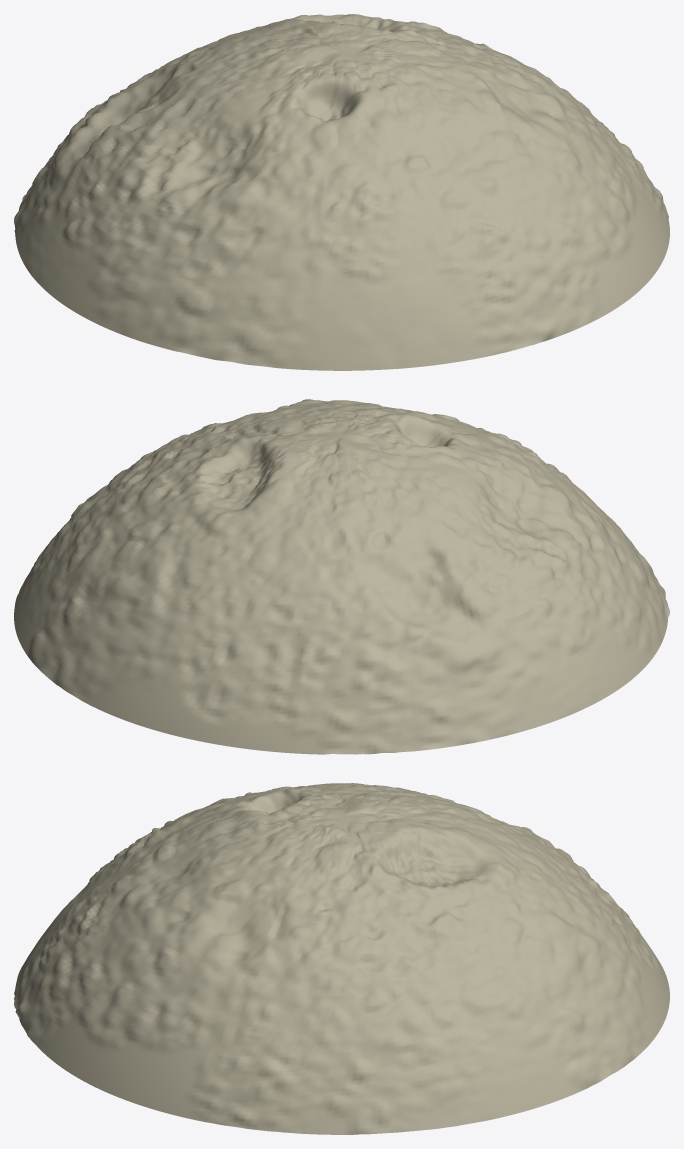
File: FBX_GROUND.fbx
3 renders of one model, top to bottom at view 1: azimuth 30°, elevation 25°; view 2: azimuth 150°, elevation 25°; view 3: azimuth 270°, elevation 25°, orthographic.
Parts seen in each view (by area): view 1: FBX_MOON; view 2: FBX_MOON; view 3: FBX_MOON.
Part boxes in pixels (x1,y1,x2,y2): FBX_MOON: (14,14,669,370); FBX_MOON: (14,399,669,754); FBX_MOON: (14,783,669,1134).
Size of the model in its own units: 6256 by 1920 by 6257.
